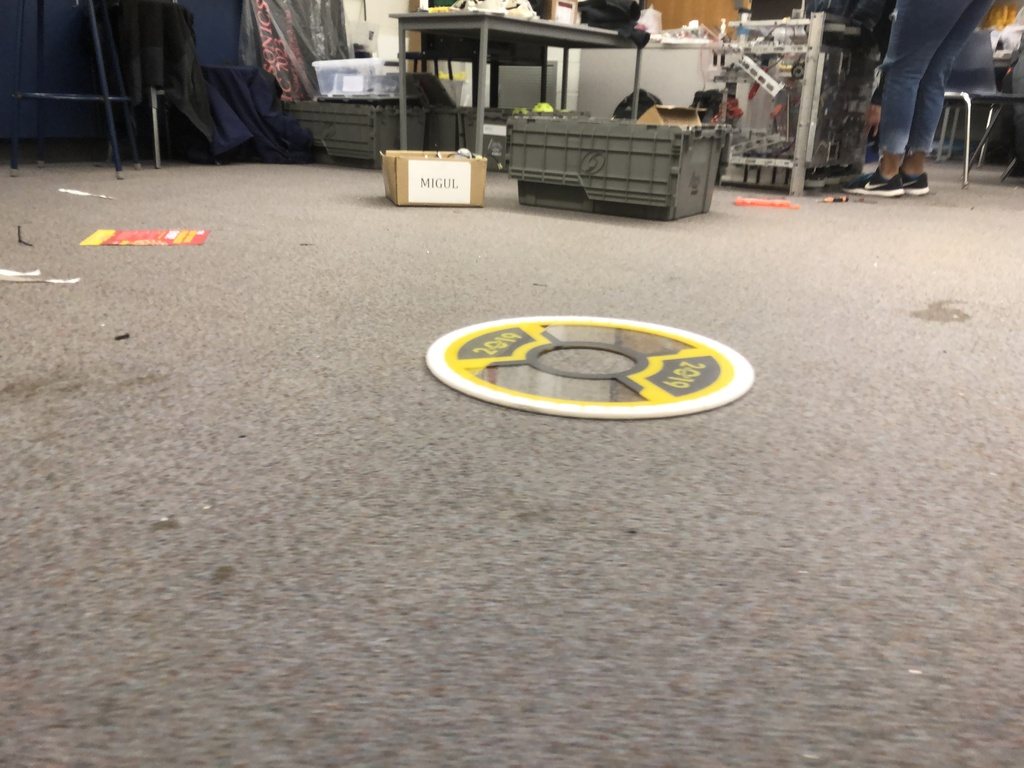hatch_panel: (416, 303, 785, 430)
